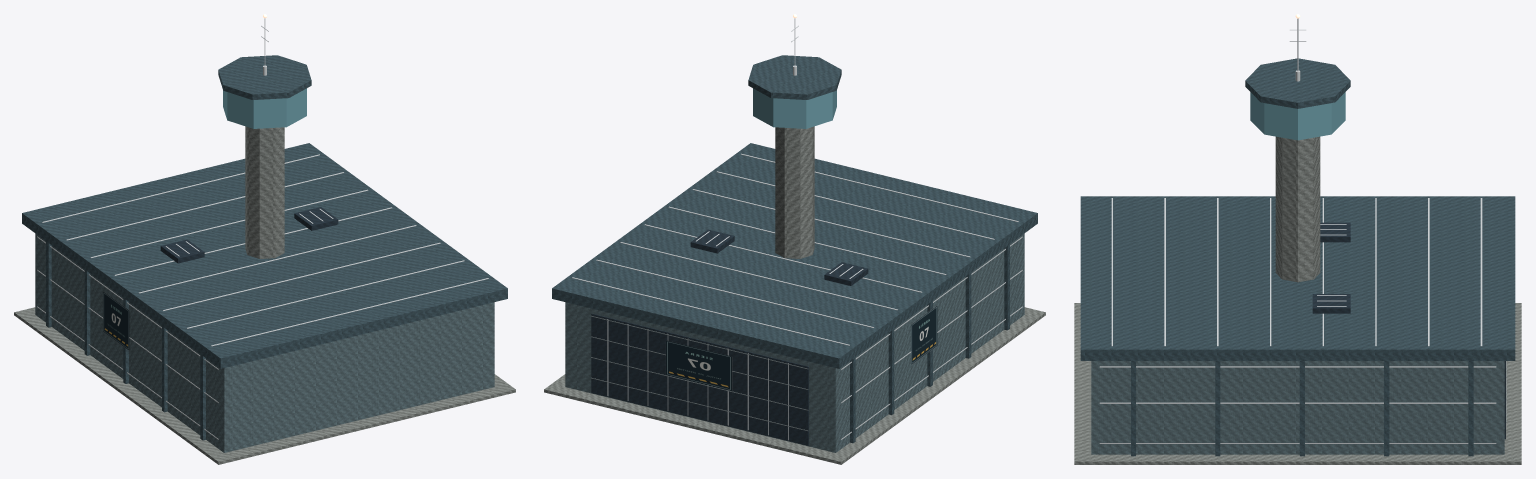
File: airfield-kit-hd.glb
3 renders of one model, left to right at view 1: azimuth 30°, elevation 25°; view 2: azimuth 150°, elevation 25°; view 3: azimuth 270°, elevation 25°, orthographic. The views are drawn at different scales.
Visible parts, largest first — view 1: Angled roof crown, Structural prefabricated volume, Hangar foundation, Tower pedestal shaft, Tower wide weather roof, 360-degree glazed controller level, Hangar side insignia, Rooftop vents, Rooftop vents.001, Exterior hangar buttress.001; view 2: Angled roof crown, Structural prefabricated volume, Recessed hangar door, Hangar foundation, Tower pedestal shaft, Tower wide weather roof, 360-degree glazed controller level, Hangar 07 / air operations signage, Hangar side insignia, Rooftop vents.001, Rooftop vents, Exterior hangar buttress.003 (+1 smaller); view 3: Angled roof crown, Structural prefabricated volume, Hangar foundation, Tower pedestal shaft, Tower wide weather roof, 360-degree glazed controller level, Rooftop vents.001, Airfield hangar fascia stripe.005, Airfield hangar fascia stripe.004, Rooftop vents, Exterior hangar buttress.005, Exterior hangar buttress.006 (+3 smaller).
Boxes of the visible parts, box(x1,y1,x2,y2) form: Angled roof crown: box(22, 143, 507, 368); Structural prefabricated volume: box(35, 233, 494, 452); Hangar foundation: box(14, 307, 515, 464); Tower pedestal shaft: box(245, 126, 284, 258); Tower wide weather roof: box(218, 55, 311, 99); 360-degree glazed controller level: box(223, 88, 306, 128); Hangar side insignia: box(103, 291, 129, 350); Rooftop vents: box(160, 239, 204, 263); Rooftop vents.001: box(294, 207, 338, 230); Exterior hangar buttress.001: box(84, 270, 90, 355); Angled roof crown: box(552, 143, 1037, 368); Structural prefabricated volume: box(565, 233, 1024, 452); Recessed hangar door: box(591, 313, 808, 445); Hangar foundation: box(544, 307, 1045, 464); Tower pedestal shaft: box(775, 126, 814, 258); Tower wide weather roof: box(748, 55, 841, 99); 360-degree glazed controller level: box(753, 88, 836, 128); Hangar 07 / air operations signage: box(666, 340, 732, 390); Hangar side insignia: box(911, 306, 937, 364); Rooftop vents.001: box(690, 229, 734, 253); Rooftop vents: box(824, 262, 868, 285); Exterior hangar buttress.003: box(965, 272, 971, 358); Angled roof crown: box(1080, 196, 1515, 360); Structural prefabricated volume: box(1091, 361, 1504, 454); Hangar foundation: box(1074, 303, 1521, 464); Tower pedestal shaft: box(1275, 136, 1320, 282); Tower wide weather roof: box(1245, 58, 1350, 108); 360-degree glazed controller level: box(1250, 92, 1345, 140); Rooftop vents.001: box(1312, 294, 1350, 313); Airfield hangar fascia stripe.005: box(1099, 366, 1496, 367); Airfield hangar fascia stripe.004: box(1099, 402, 1496, 403); Rooftop vents: box(1320, 222, 1350, 242); Exterior hangar buttress.005: box(1468, 361, 1473, 456); Exterior hangar buttress.006: box(1384, 361, 1389, 456).
Bounding box in the file's own units: 89 × 97.46 × 106.
18 materials, 11 textured.
